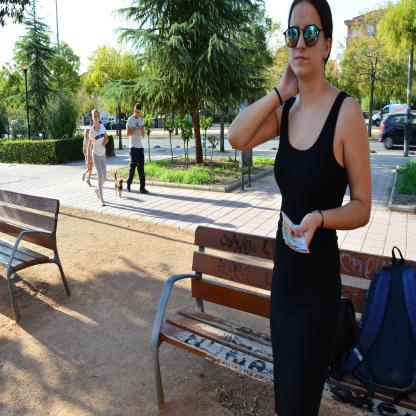billete: (280, 209, 309, 254)
